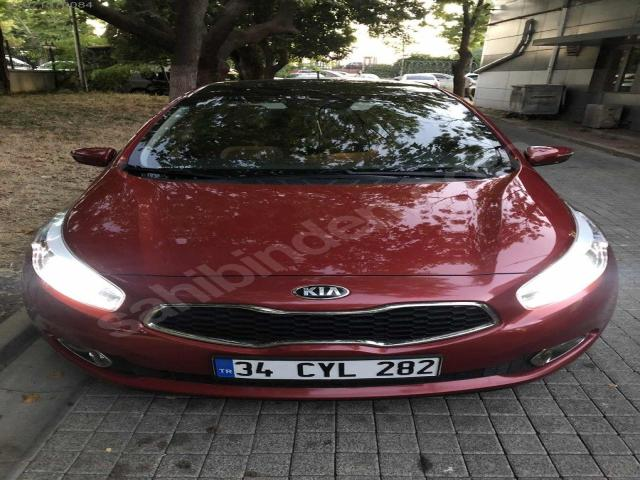plaka: (213, 356, 441, 381)
